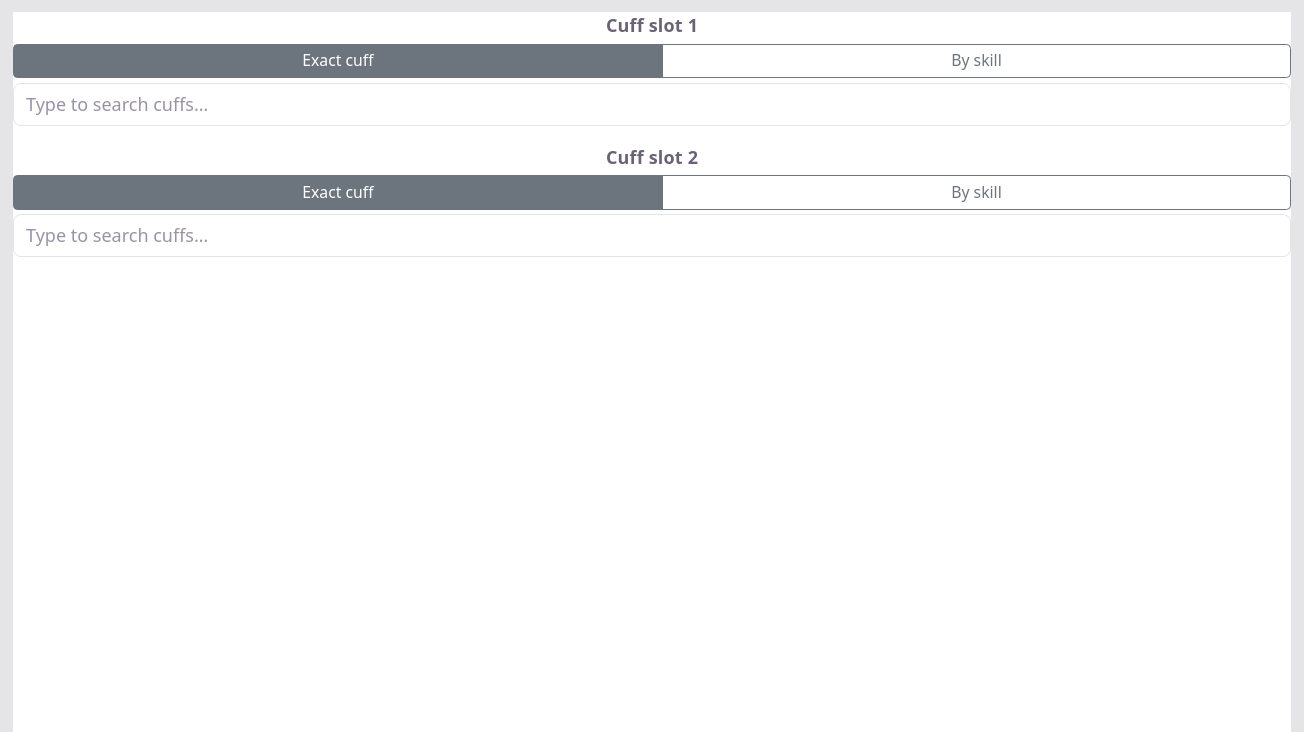
CuffPicker › skill-mode pinning (docs/skill-system-roadmap.md TODO #25) › switches to the "By skill" search when that mode is picked
Click the button "By skill" below "Cuff slot 1" at (977, 61), box [662,44,1291,78]
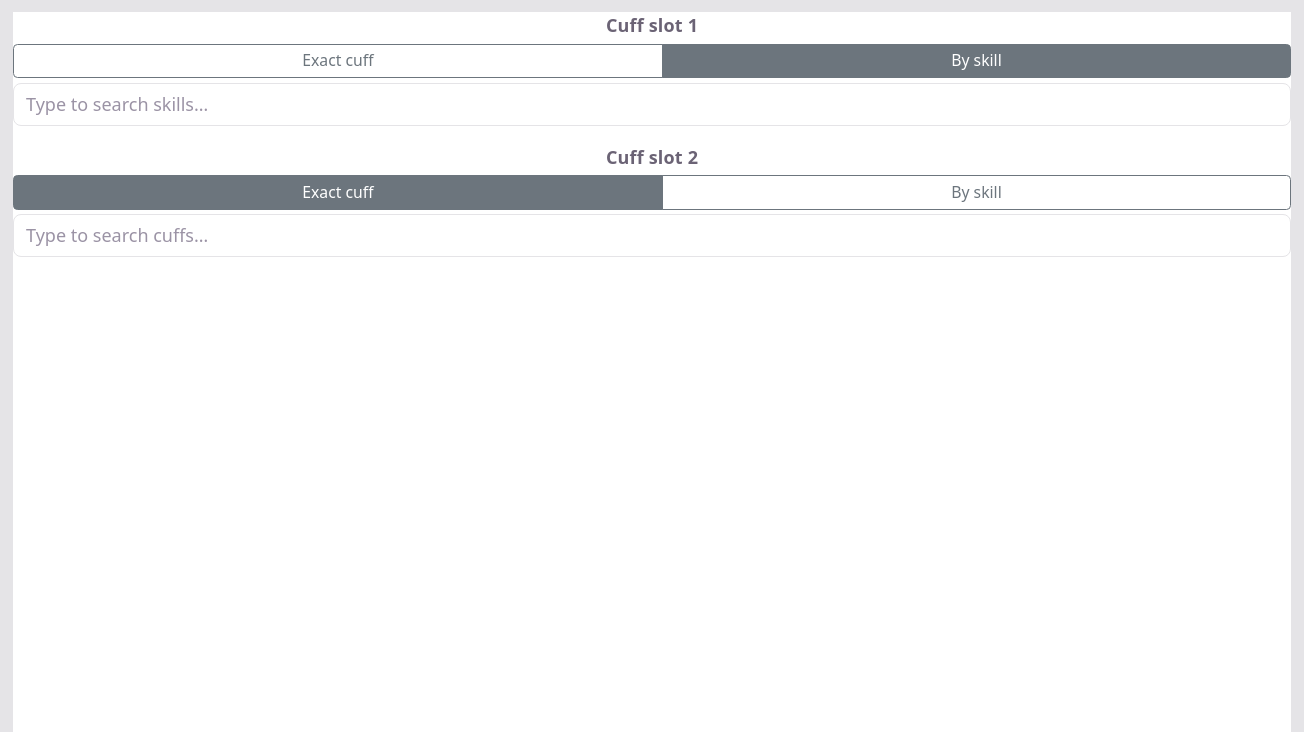
Result: the field named "Search skills to pin for Cuff slot 1" is shown at [13,83,1291,126]
